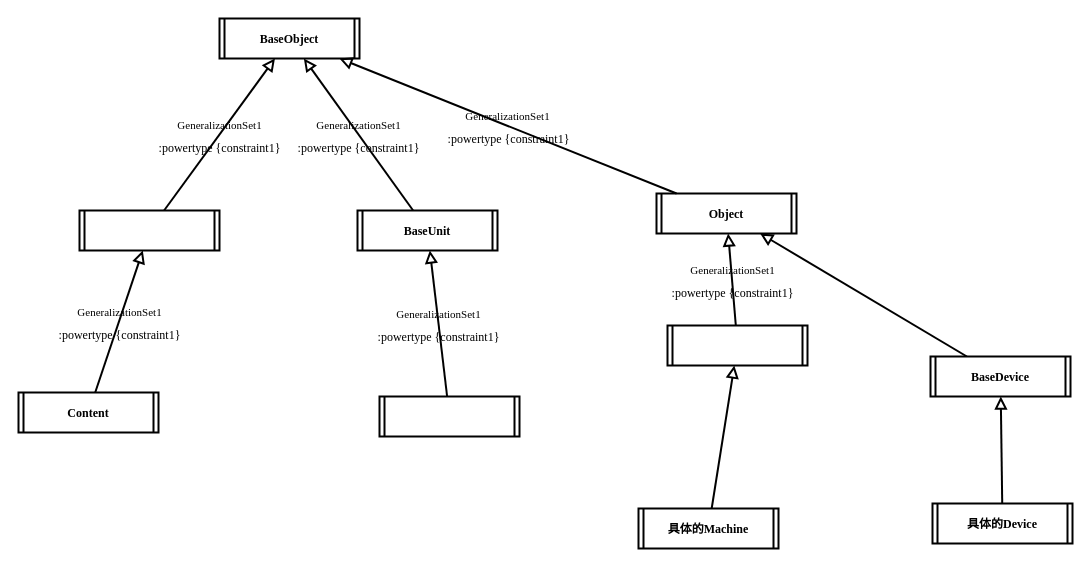
Image size: 1090x566. Some labels were removed from this diagram. Here are the shapes that lost their labels. From the top down, the centre of each, then its label:
At (x=149, y=230): "BaseContent".
At (x=737, y=345): "BaseMachine".
At (x=449, y=416): "Unit".
